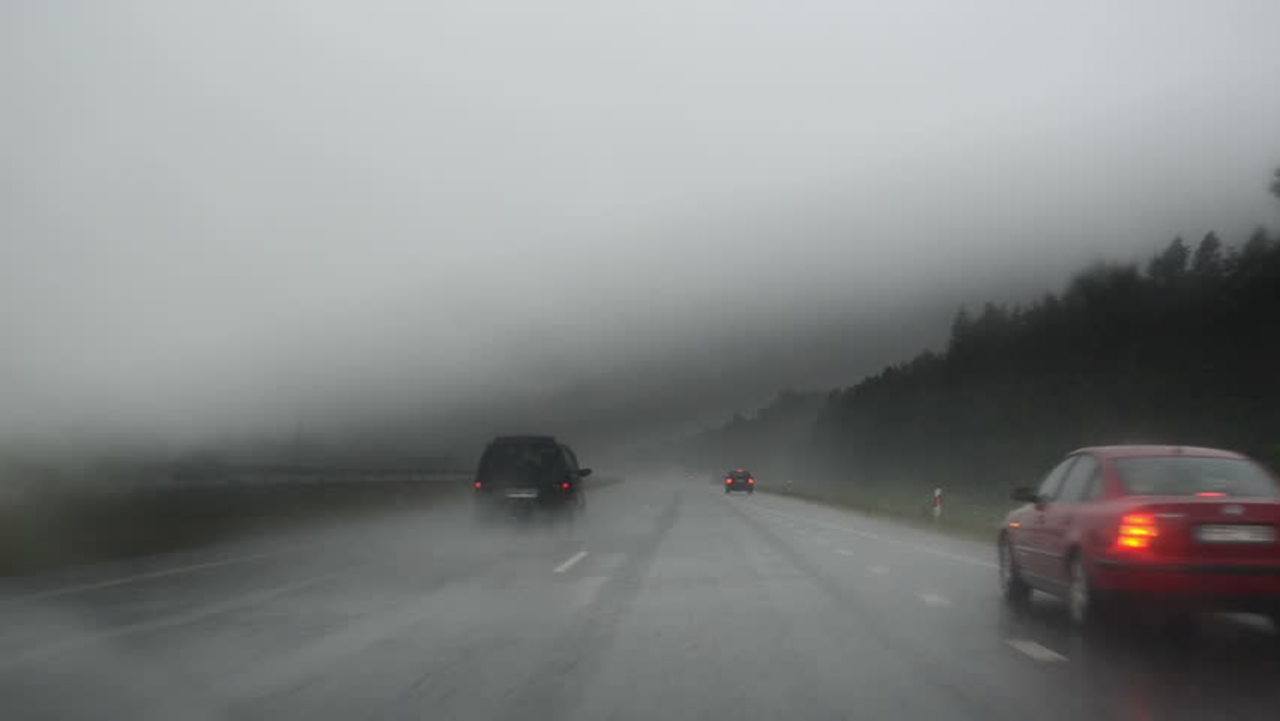car: (990, 443, 1279, 645), (469, 436, 592, 515), (720, 466, 757, 495)
